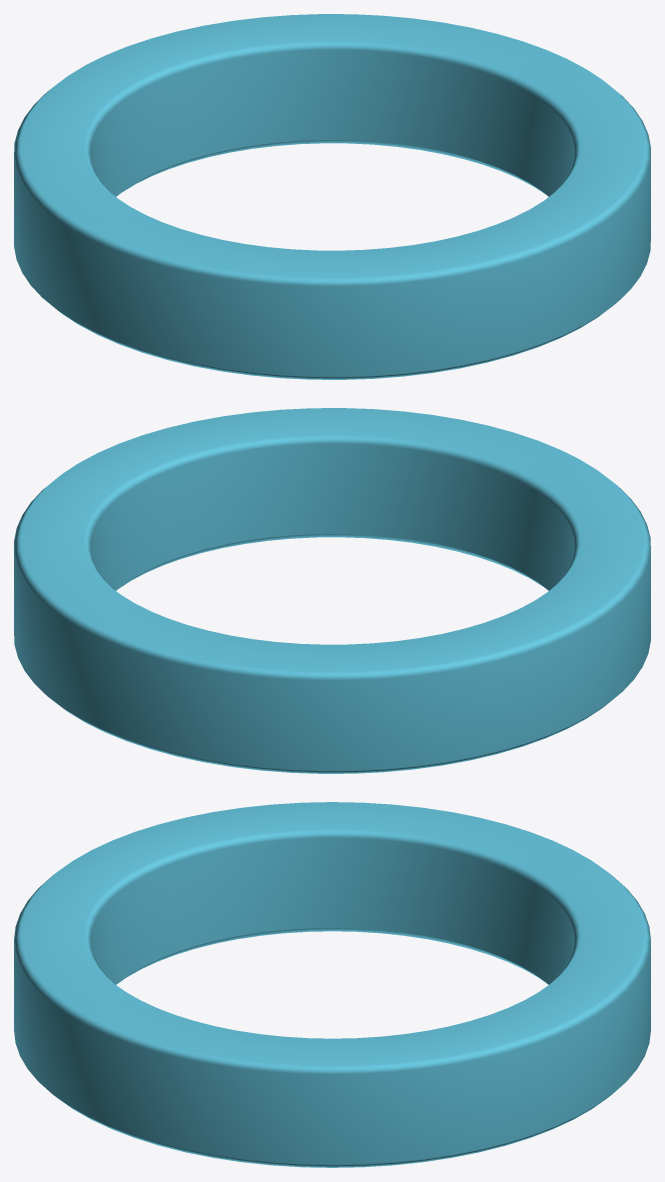
3 renders of one model, top to bottom at view 1: azimuth 30°, elevation 25°; view 2: azimuth 150°, elevation 25°; view 3: azimuth 270°, elevation 25°, orthographic.
Visible parts, largest first — view 1: seal_body; view 2: seal_body; view 3: seal_body.
Boxes of the visible parts, bbox=[...] form: seal_body: bbox=[14, 14, 650, 379]; seal_body: bbox=[14, 408, 650, 773]; seal_body: bbox=[14, 802, 650, 1167].
Bounding box in the file's own units: 0.062 × 0.011 × 0.062.
